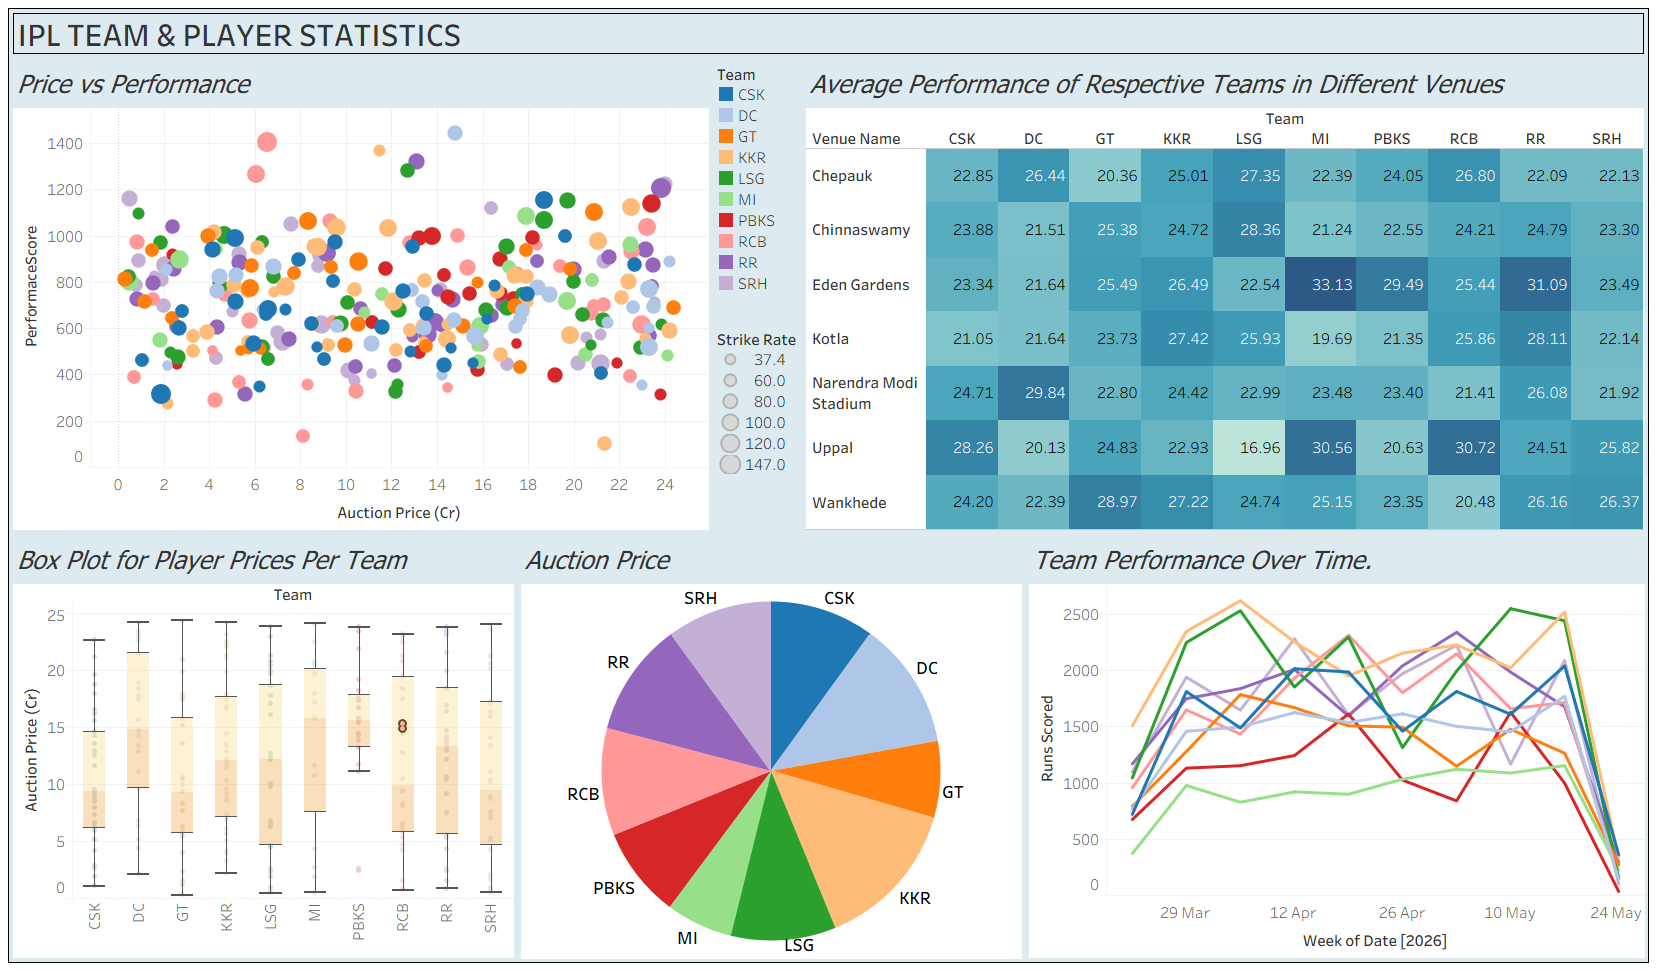

The dashboard page shown, as its layout file describes it:
{"tool":"tableau","page":{"name":"Dashboard 1","canvas":[1000,1000],"units":"permille","ordinal":0},"visuals":[{"type":"title","box":[4.7,10,990.5,62.4]},{"type":"worksheet","title":"Price vs Performance","mark":"Circle","rows":["Calculation_636133507335495685"],"cols":["Auction Price (Cr)"],"box":[4.7,72.4,448,572.8]},{"type":"worksheet","title":"Team Prerformance","mark":"Automatic","rows":["Runs Scored"],"cols":["Date"],"box":[452.7,72.4,448,458.8]},{"type":"legend","title":"Player Prices Dist within each team","param":"[federated.0hnehhl04kpiis1e29ed00bua1ke].[none:Team:nk]","box":[900.7,72.4,94.6,299.6]},{"type":"worksheet","title":"Avg performance of respective teams in different venues","mark":"Square","rows":["Venue Name"],"cols":["Team"],"box":[130.6,122.4,333.3,333.3]},{"type":"legend","title":"Price vs Performance","param":"[federated.0hnehhl04kpiis1e29ed00bua1ke].[usr:Calculation_636133507334483970:qk]","box":[900.7,372,94.6,142.3]},{"type":"worksheet","title":"Player Prices Dist within each team","mark":"Circle","rows":["Auction Price (Cr)"],"cols":["Team"],"box":[452.7,531.2,448,458.8]},{"type":"legend","title":"Avg performance of respective teams in different venues","param":"[federated.0hnehhl04kpiis1e29ed00bua1ke].[usr:Calculation_636133507351232525:qk]","box":[716.9,623,82.7,109.9]},{"type":"worksheet","title":"Auction Price","mark":"Pie","box":[4.7,645.2,448,344.8]}]}

Visuals, with their boxes on the dashboard's canvas, which has no fixed pixel size, in thousandths of its width and height (x1, y1, x2, y2). These are canvas units, not pixel positions in the 1657x971 screenshot, which may show the page scaled, cropped or inside an application window:
title: (5,10,995,72)
"Price vs Performance" worksheet (Circle marks): (5,72,453,645)
"Team Prerformance" worksheet: (453,72,901,531)
"Player Prices Dist within each team" legend: (901,72,995,372)
"Avg performance of respective teams in different venues" worksheet (Square marks): (131,122,464,456)
"Price vs Performance" legend: (901,372,995,514)
"Player Prices Dist within each team" worksheet (Circle marks): (453,531,901,990)
"Avg performance of respective teams in different venues" legend: (717,623,800,733)
"Auction Price" worksheet (Pie marks): (5,645,453,990)
